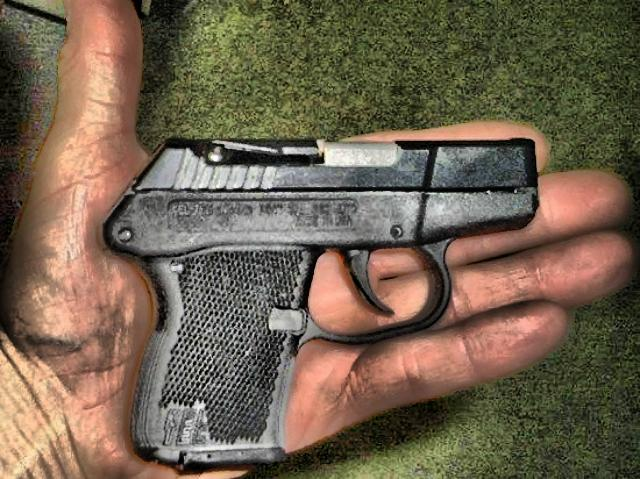pistol: (95, 129, 539, 467)
